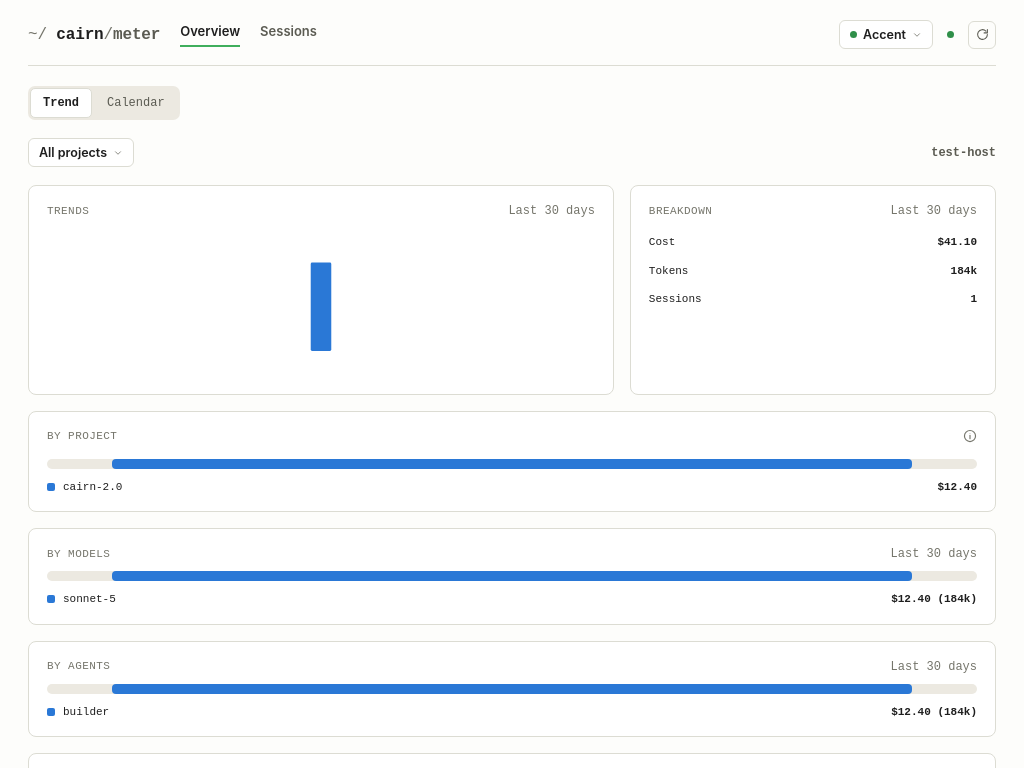
Scenario: Overview › O4: hides By project once InstallScopeRow's dropdown filters to a single project
Check: the element with test id "project-cost-panel" is shown, box [28,411,996,512]
Step 1. Click the button with test id "install-scope-dropdown" → point(81, 152), box [28,138,134,167]
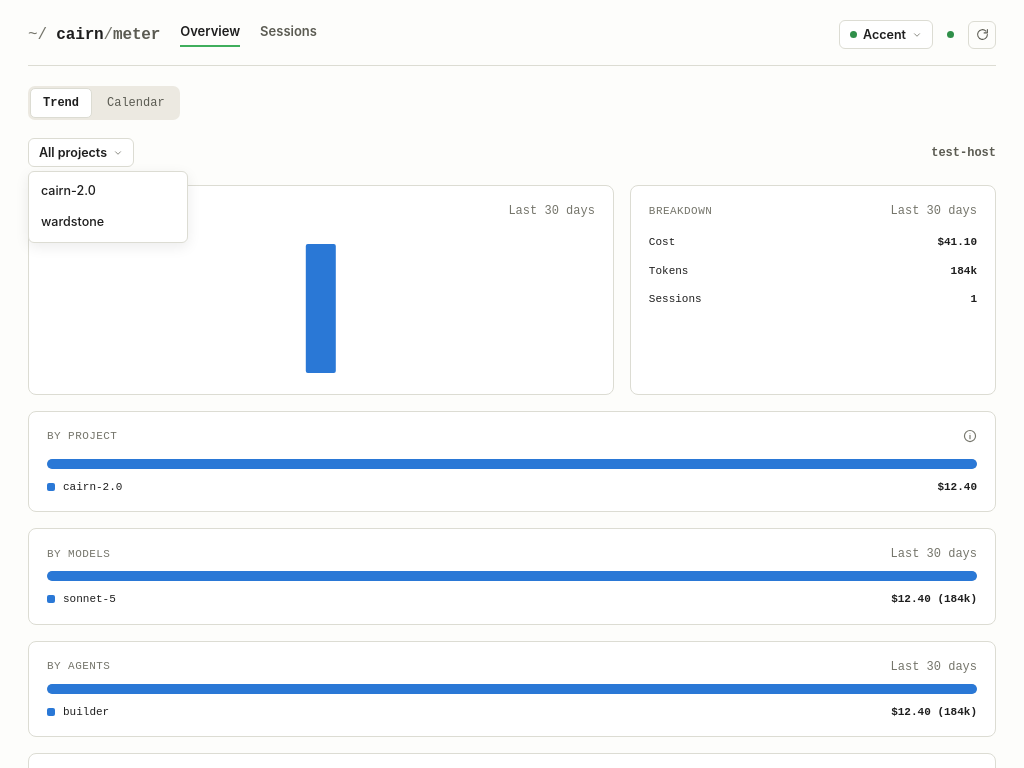
Step 2. Click the text with test id "install-scope-option-wardstone" → point(73, 221), box [41,214,104,229]
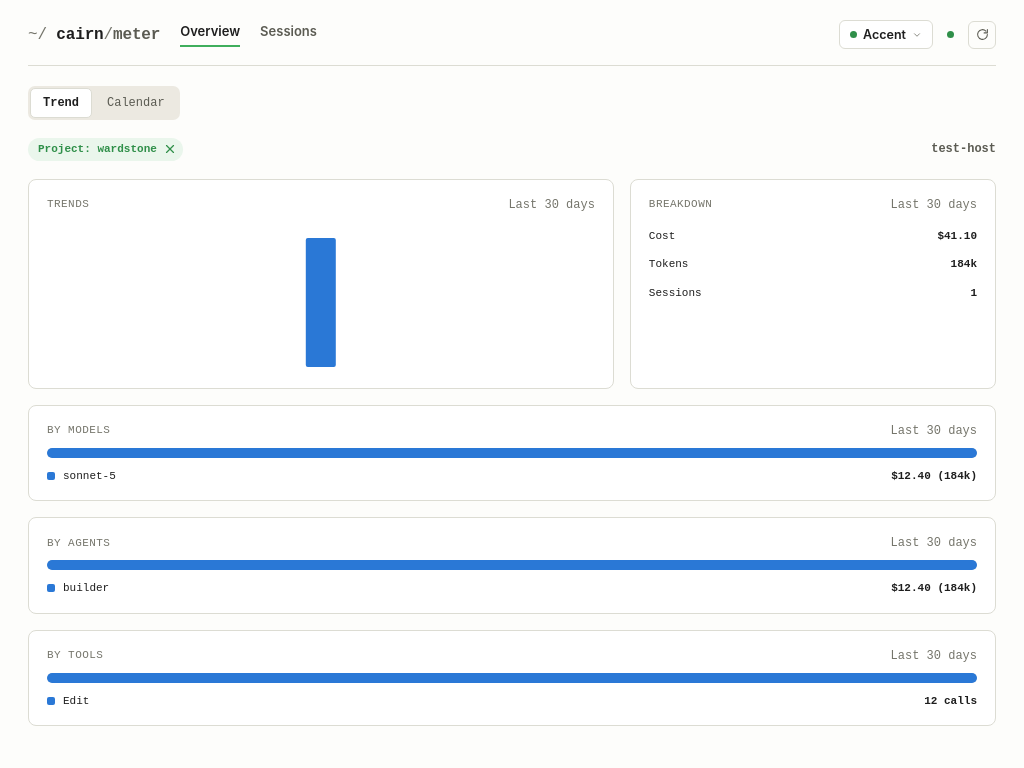
Check: the element with test id "project-cost-panel" is gone
